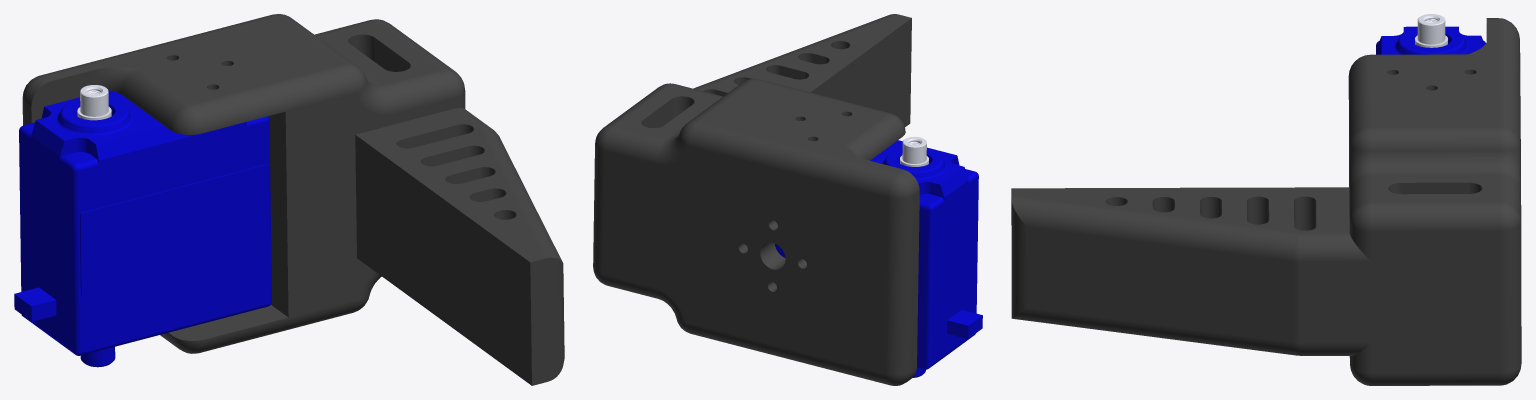
The model's file is Gripper fix.glb.
The picture shows the model from 3 angles, left to right: view 1: azimuth 30°, elevation 25°; view 2: azimuth 150°, elevation 25°; view 3: azimuth 270°, elevation 25°; orthographic projection. The views are drawn at different scales.
Visible parts, largest first — view 1: Gripper Fix; view 2: Gripper Fix; view 3: Gripper Fix.
Part boxes in pixels (bbox=[...]): Gripper Fix: bbox=[14, 14, 564, 385]; Gripper Fix: bbox=[593, 14, 982, 385]; Gripper Fix: bbox=[1011, 14, 1521, 385].
Bounding box in the file's own units: 8.31 × 5.26 × 9.21.
